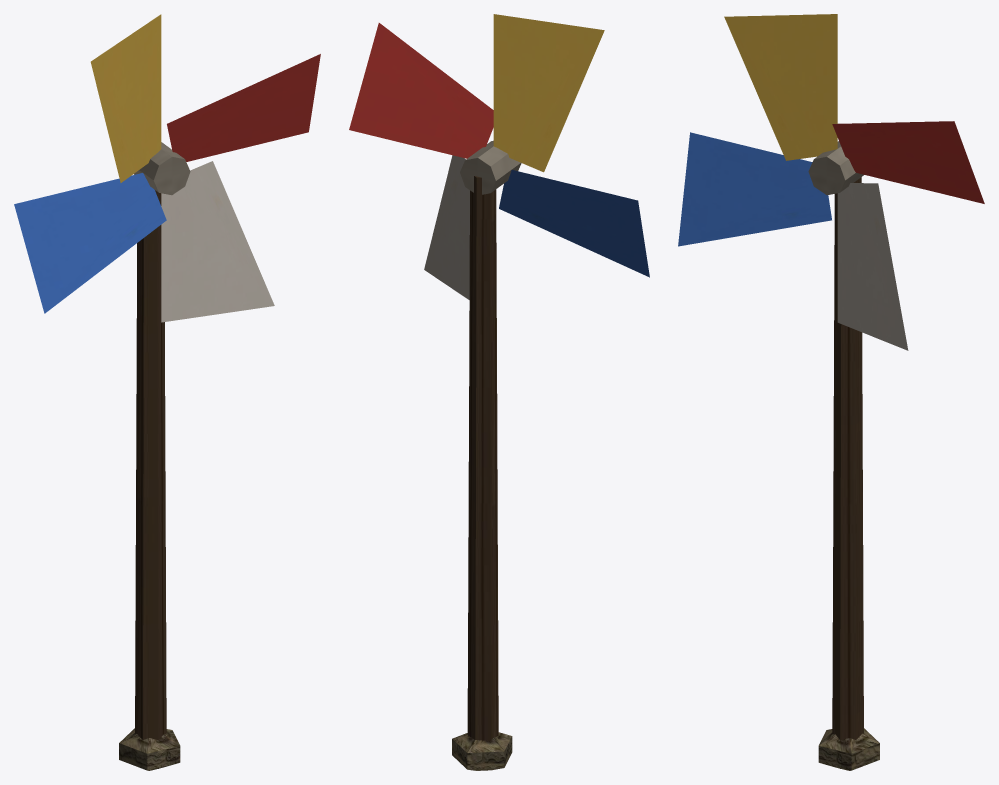
The model's file is pinwheel_01_full.glb.
3 renders of one model, left to right at view 1: azimuth 30°, elevation 25°; view 2: azimuth 150°, elevation 25°; view 3: azimuth 330°, elevation 25°, orthographic.
Parts seen in each view (by area): view 1: pinwheel_01_full; view 2: pinwheel_01_full; view 3: pinwheel_01_full.
Boxes of the visible parts, bbox=[...] form: pinwheel_01_full: bbox=[14, 14, 320, 770]; pinwheel_01_full: bbox=[349, 14, 649, 770]; pinwheel_01_full: bbox=[678, 14, 984, 770].
Bounding box in the file's own units: 0.64 × 1.58 × 0.1809.
7 materials, 7 textured.
